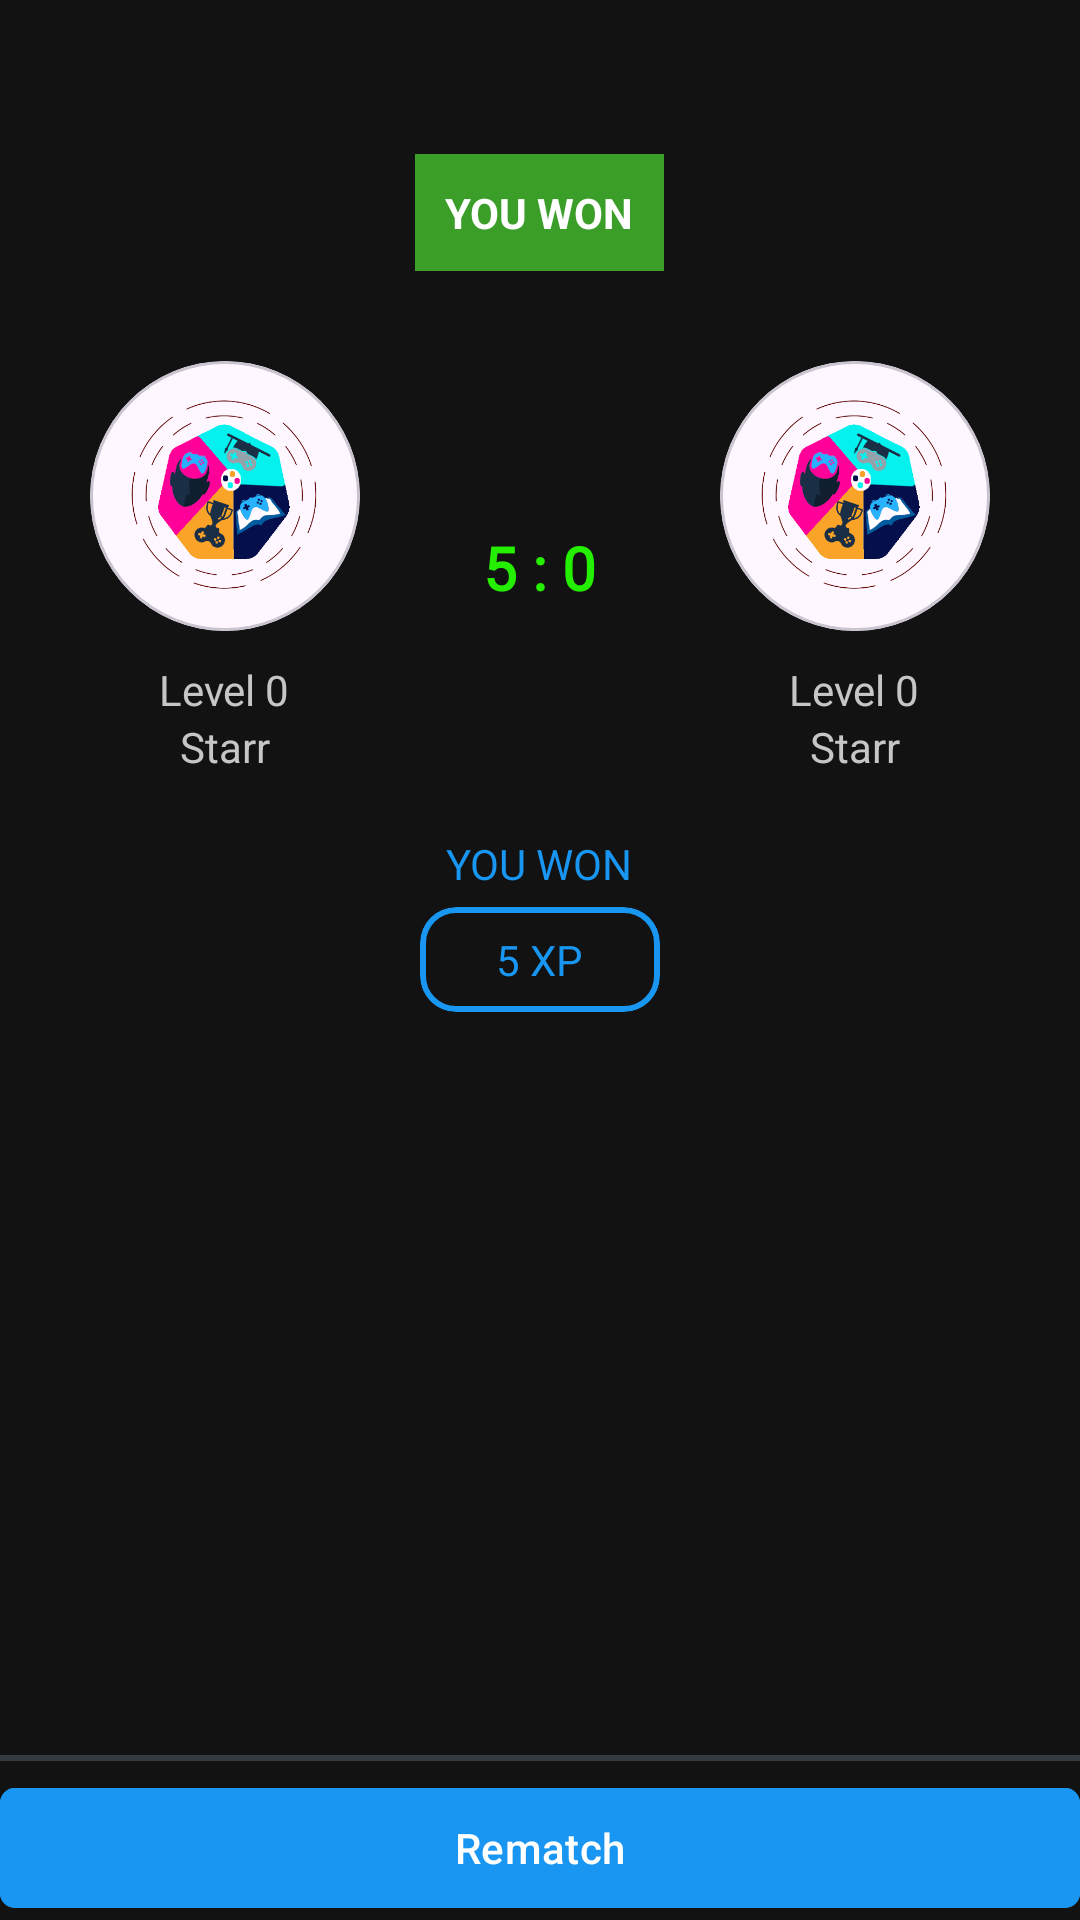

Icon click points for this 1080×1920 phone screenshot, format [x,y]:
game: [225,496], [855,496]
